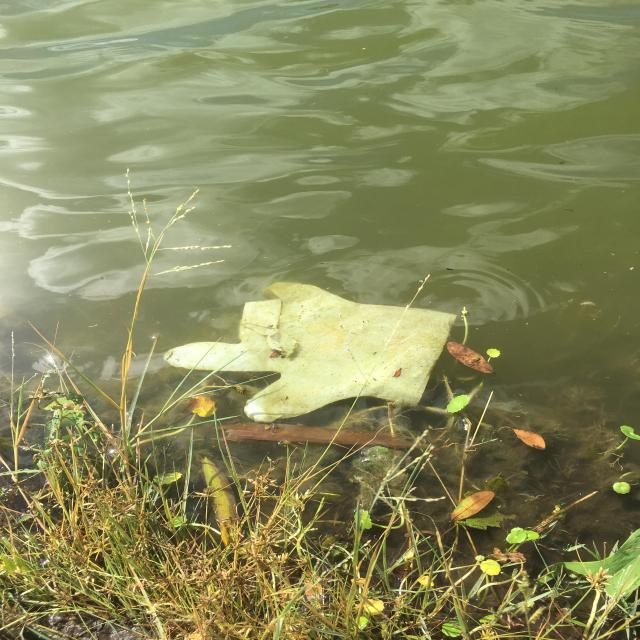litter: (133, 263, 510, 455)
